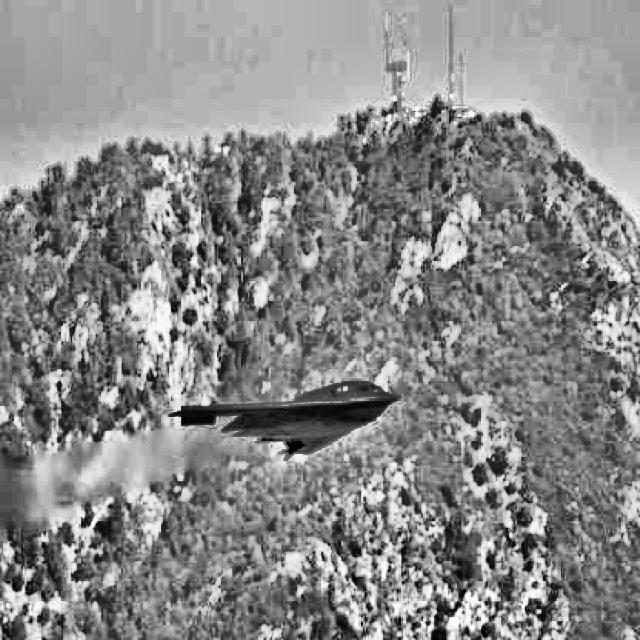B2: (168, 379, 398, 461)
